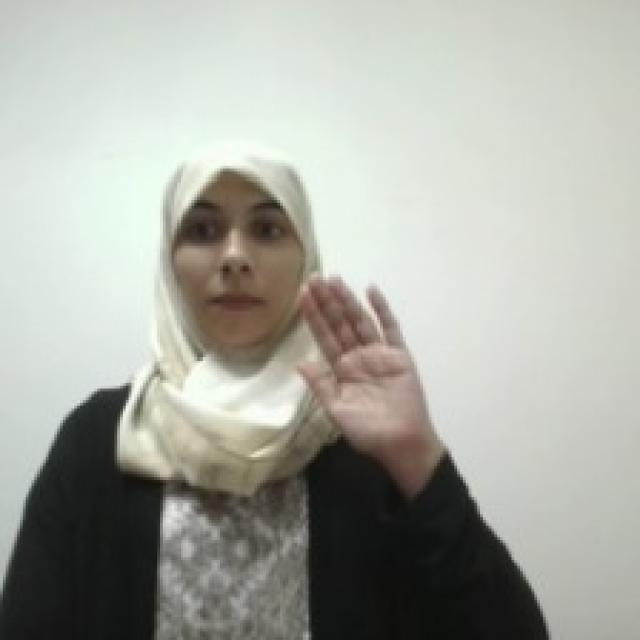Hello: (288, 266, 431, 449)
